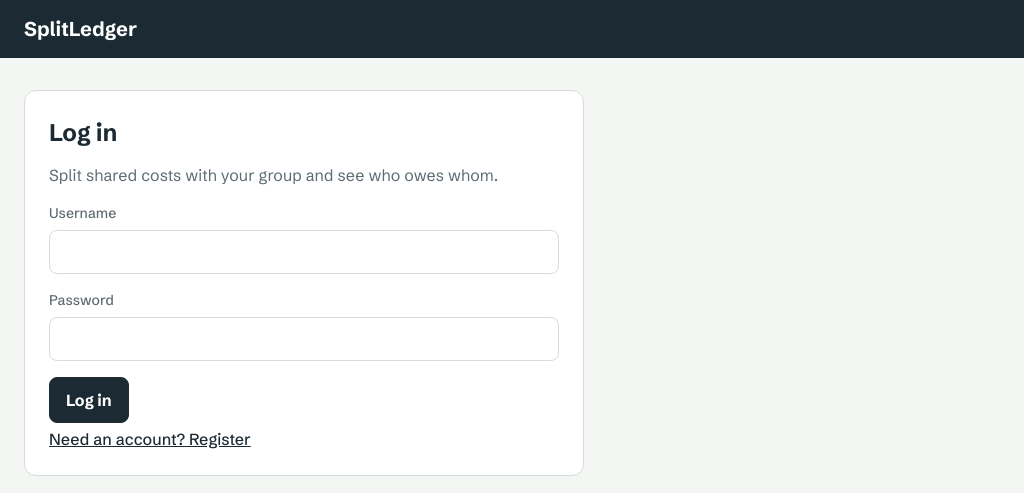
Scenario: LoginPage › logs in
Step 1. Type "alice" into the field labelled "Username" → (304, 252), box [49,230,559,274]
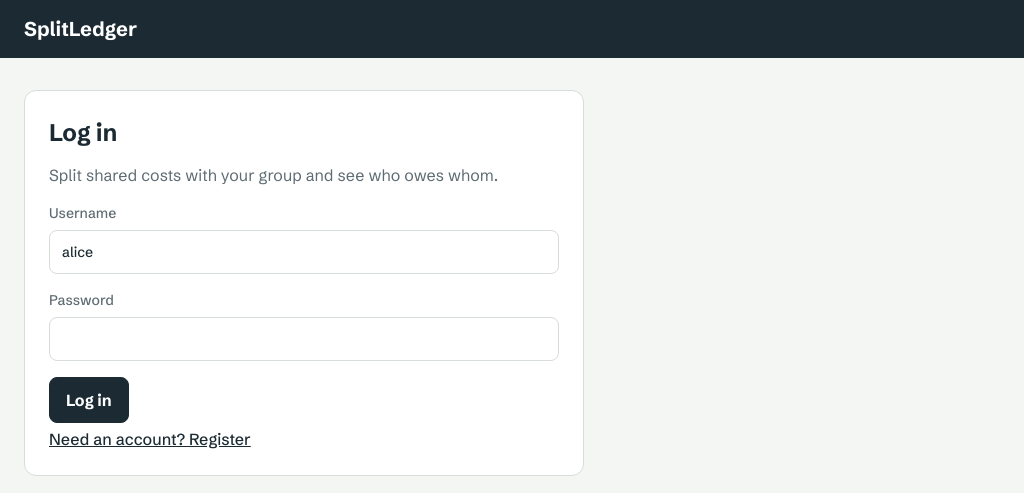
Step 2. Type "pw123456" into the password field labelled "Password" → (304, 339), box [49,317,559,361]
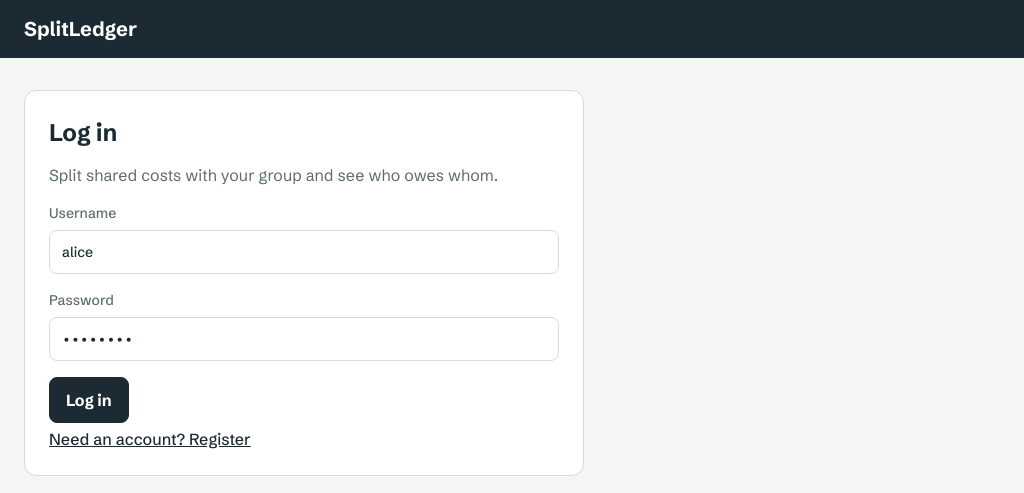
Step 3. Click the button "Log in" → (89, 400), box [49,377,129,423]
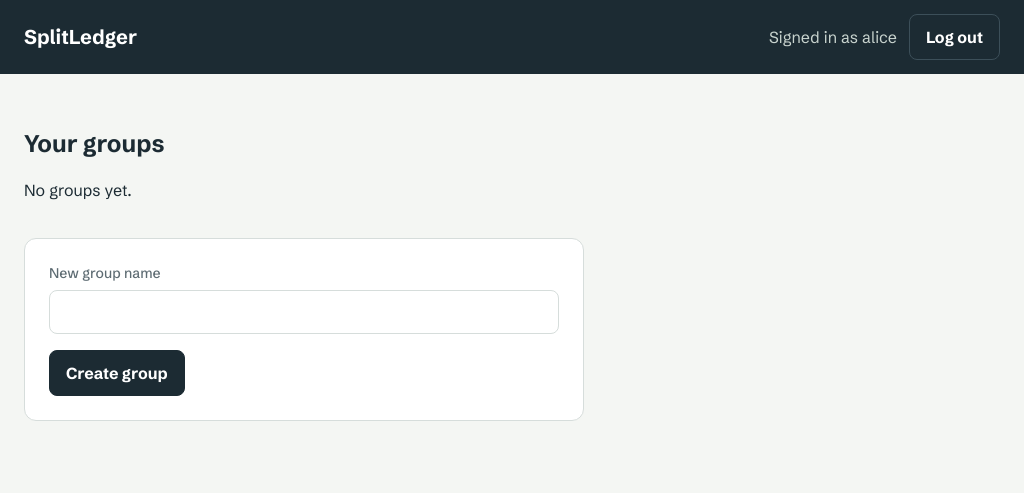
Now the text "Signed in as alice" is shown, box [769,25,897,49]
